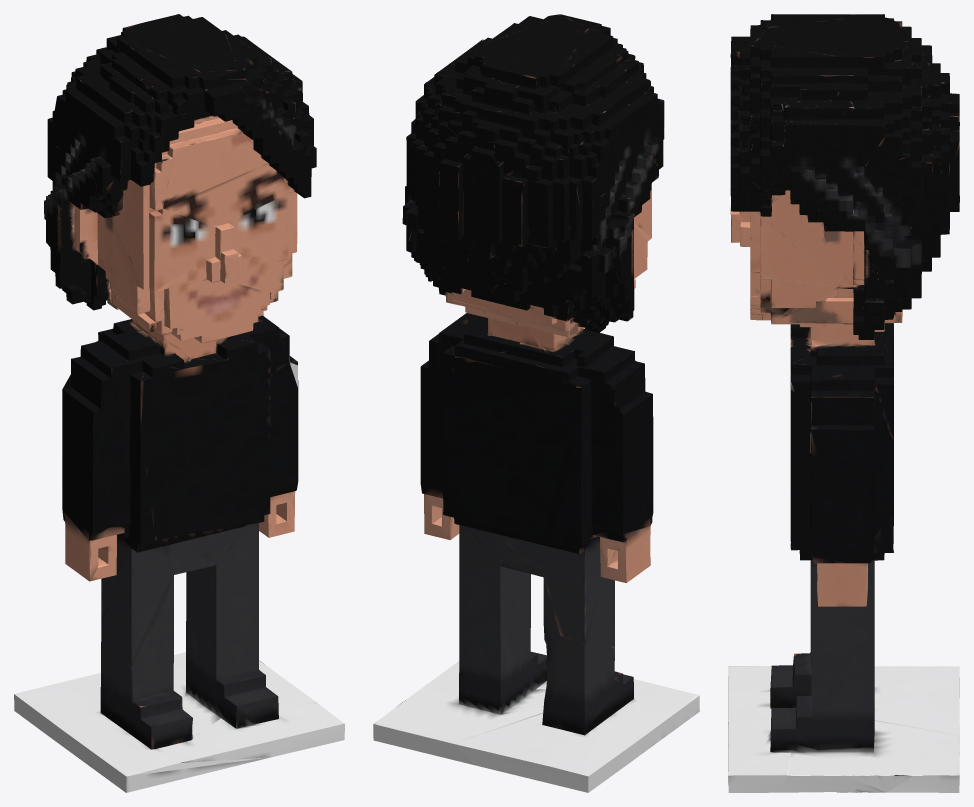
Rendered from xuan.glb.
3 views of the same model, side by side, from view 1: azimuth 30°, elevation 25°; view 2: azimuth 150°, elevation 25°; view 3: azimuth 270°, elevation 25° (orthographic). The views are drawn at different scales.
Bounding box in the file's own units: 0.6374 × 1.9 × 0.5688.
1 material, 1 textured.
